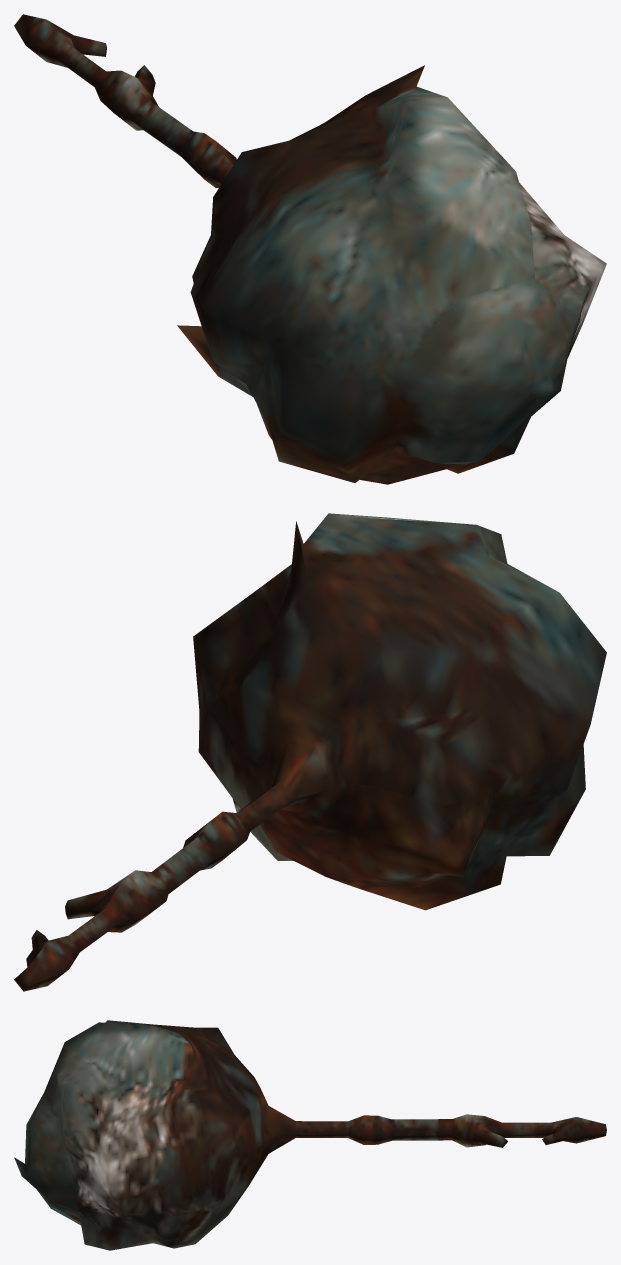
The model's file is we045_amh.OBJ.
3 renders of one model, top to bottom at view 1: azimuth 30°, elevation 25°; view 2: azimuth 150°, elevation 25°; view 3: azimuth 270°, elevation 25°, orthographic. The views are drawn at different scales.
Parts seen in each view (by area): view 1: mesh_0; view 2: mesh_0; view 3: mesh_0.
Part boxes in pixels (bbox=[...]): mesh_0: bbox=[14, 14, 606, 484]; mesh_0: bbox=[14, 513, 606, 991]; mesh_0: bbox=[14, 1020, 606, 1250].
Bounding box in the file's own units: 94.8 × 88.3 × 207.
1 material, 1 textured.
